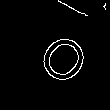O_SW: (23, 24, 88, 91)
